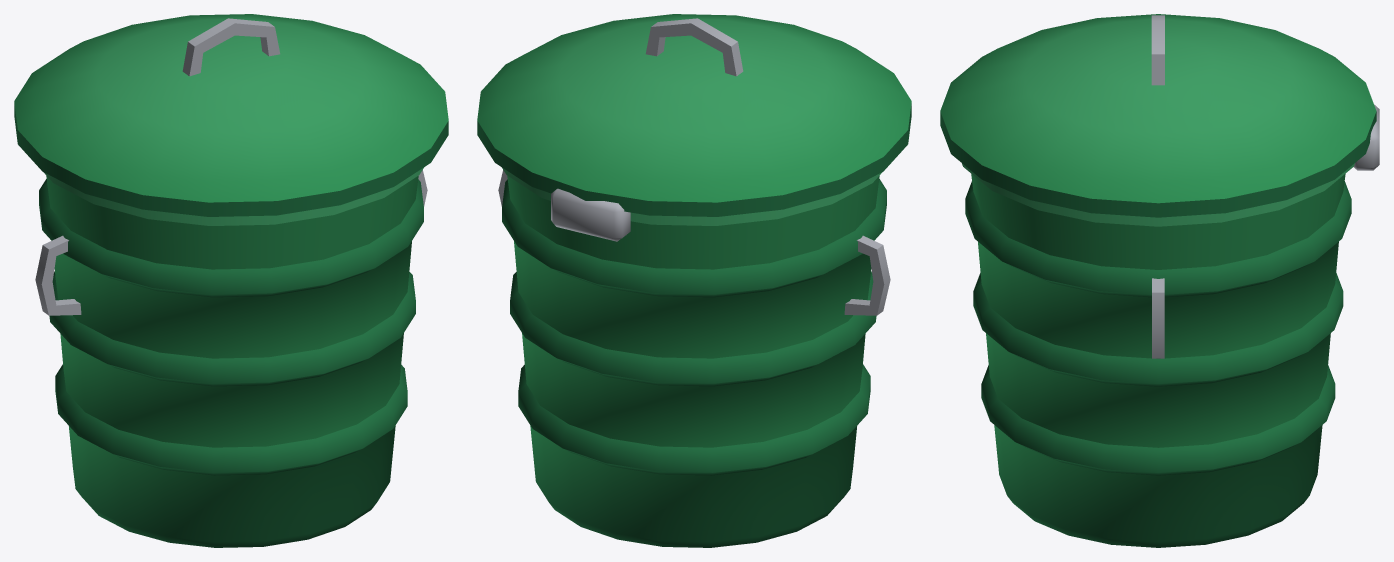
Rendered from caneca.glb.
3 renders of one model, left to right at view 1: azimuth 30°, elevation 25°; view 2: azimuth 150°, elevation 25°; view 3: azimuth 270°, elevation 25°, orthographic.
Parts seen in each view (by area): view 1: caneca, lid; view 2: caneca, lid; view 3: caneca, lid.
Part boxes in pixels (<box>): caneca: <box>35,167,427,547</box>; lid: <box>14,14,448,216</box>; caneca: <box>498,167,890,547</box>; lid: <box>477,14,911,216</box>; caneca: <box>962,104,1379,547</box>; lid: <box>940,14,1376,217</box>.
Bounding box in the file's own units: 1.4 × 1.6 × 1.38.
